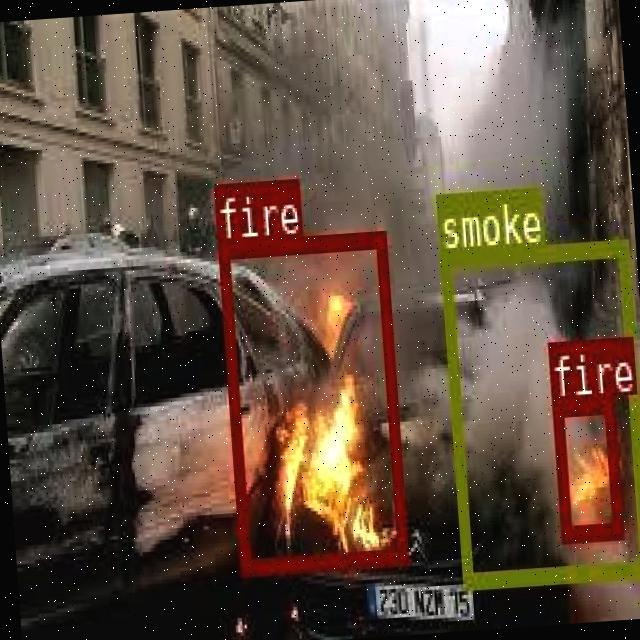fire: (216, 227, 406, 574), (550, 392, 622, 540)
smoke: (438, 236, 640, 584)
